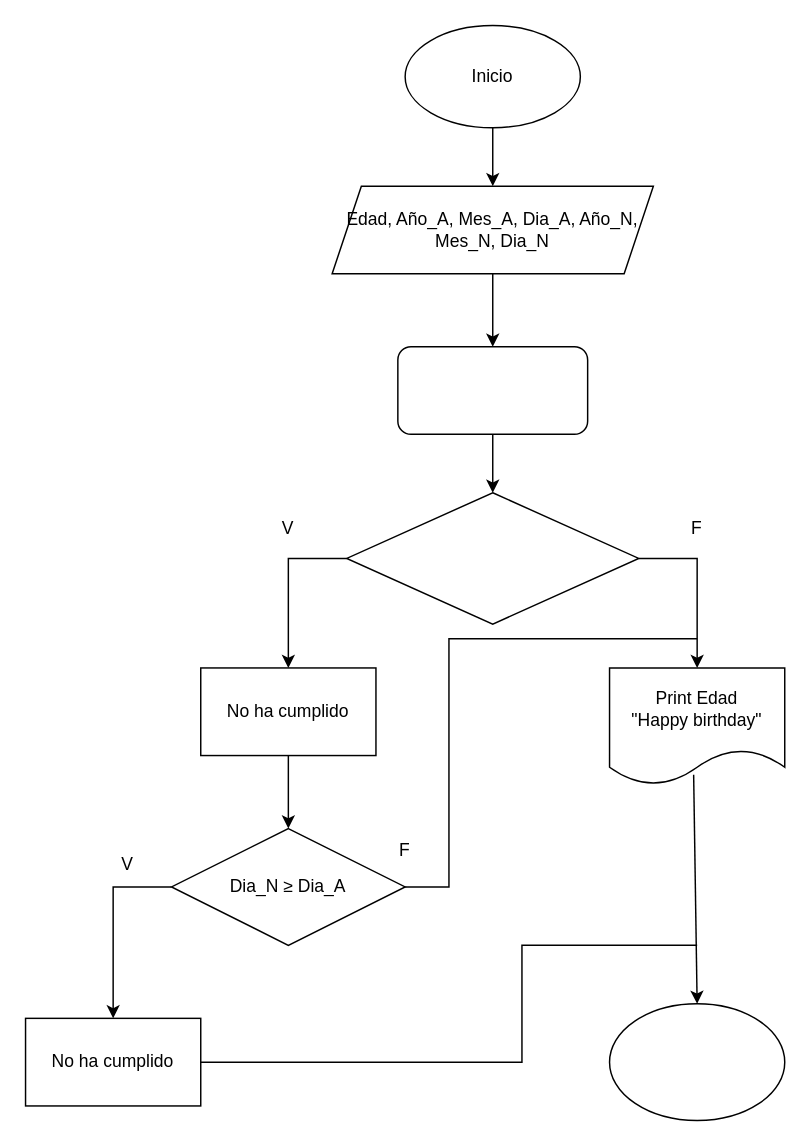
Image size: 810x1146. Some labels were removed from this diagram. Each missing label, with the centre of its shape:
"Edad = Año_A - Año_N" belongs at point (492, 389).
"Fin" belongs at point (696, 1061).
"Mes_N > Mes_A" belongs at point (492, 557).
